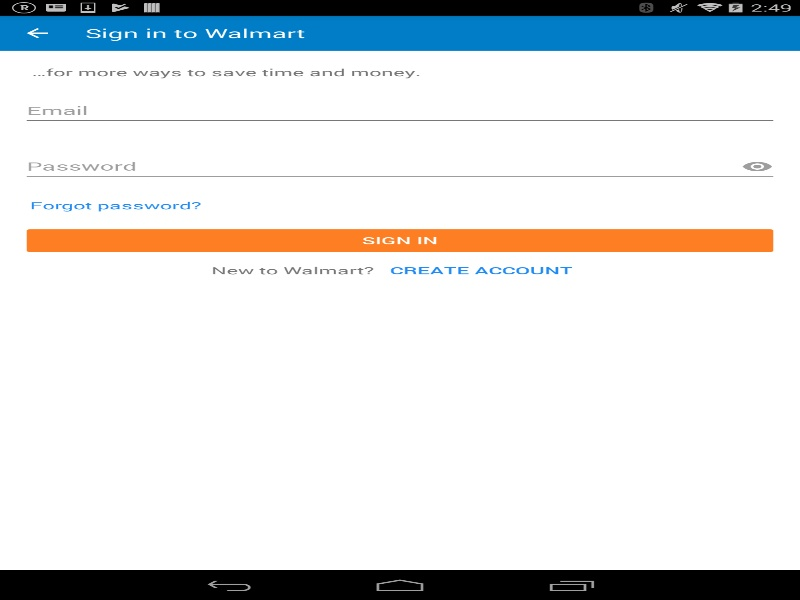Button: (21, 225, 778, 255), (374, 255, 588, 285), (13, 190, 217, 220), (21, 25, 53, 40)
Input: (21, 96, 778, 125), (21, 152, 778, 181)
